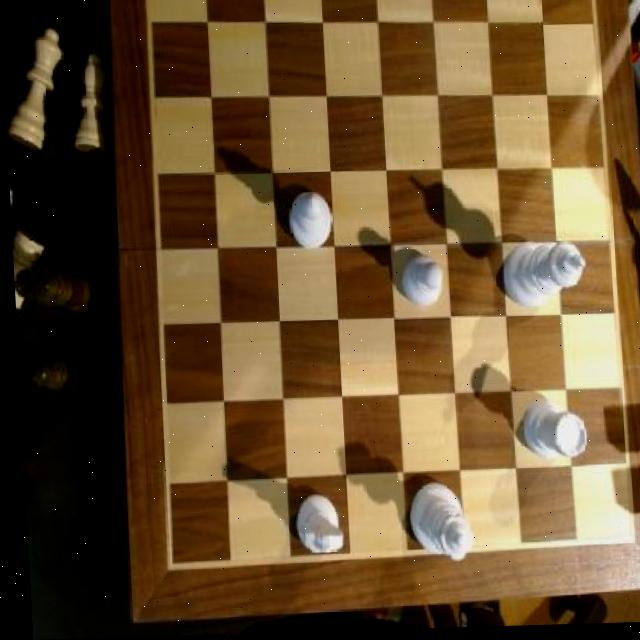black-rook: (282, 191, 334, 253)
white-bishop: (495, 242, 584, 314)
white-king: (287, 499, 343, 559)
white-knight: (397, 256, 441, 311)
white-pawn: (405, 484, 470, 564)
white-queen: (520, 405, 584, 465)
